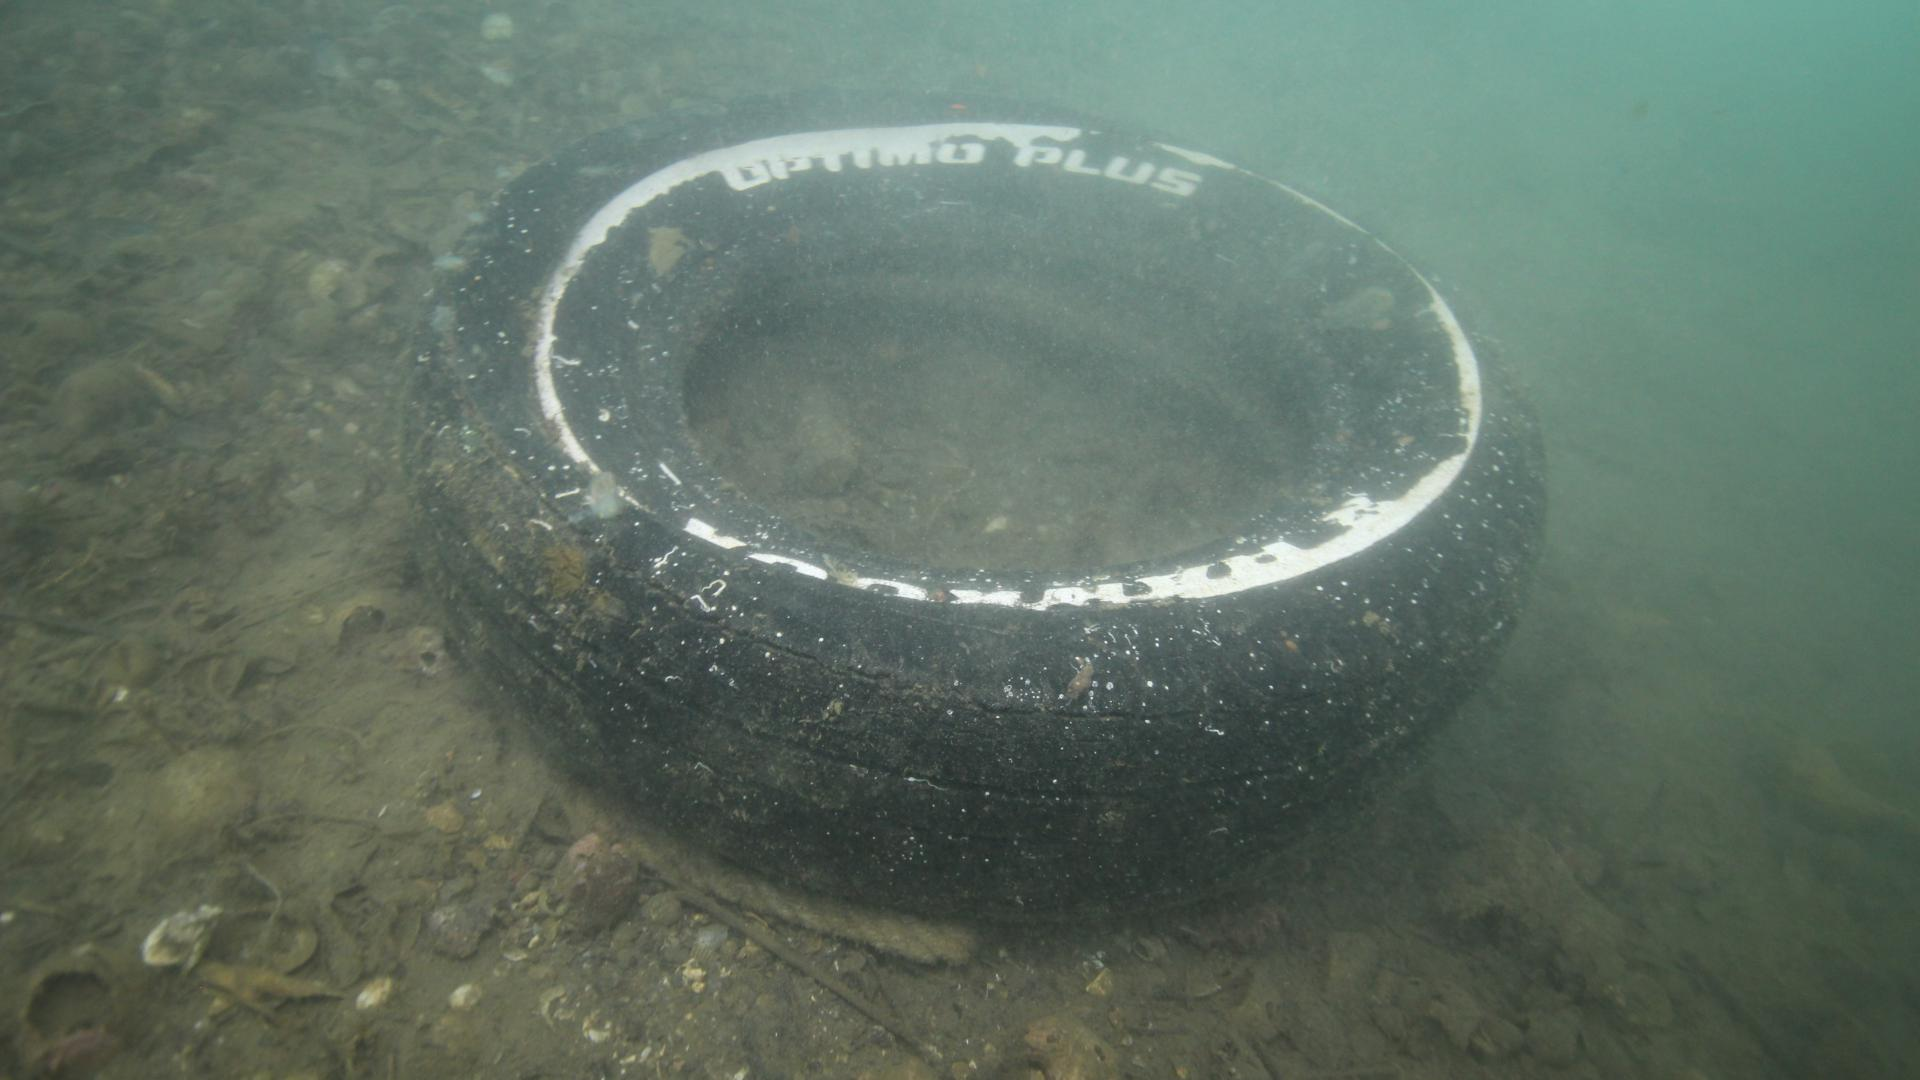tire: (398, 86, 1551, 927)
